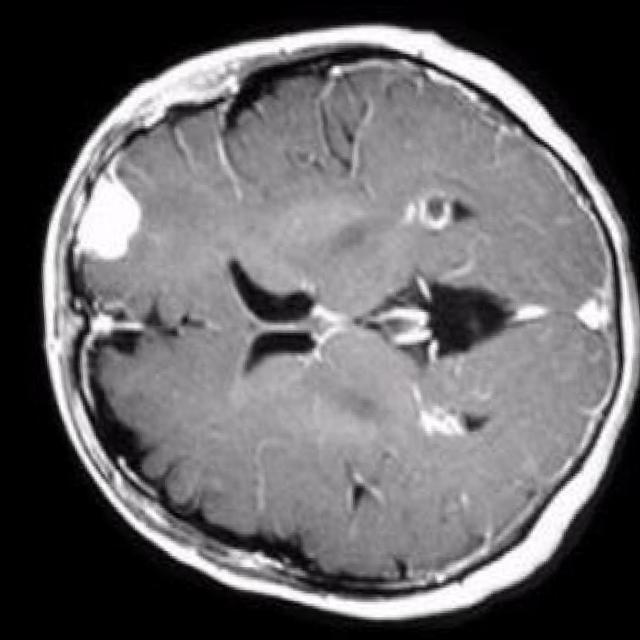Tumor: (70, 171, 137, 262)
